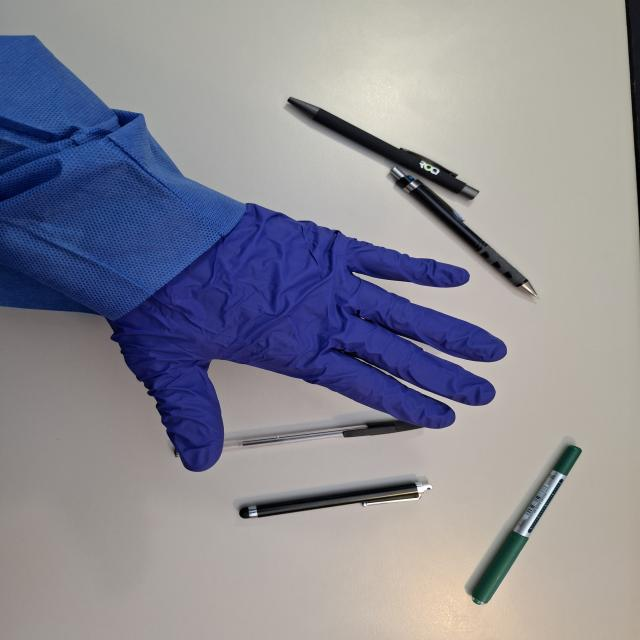glove_on: (98, 202, 511, 474)
